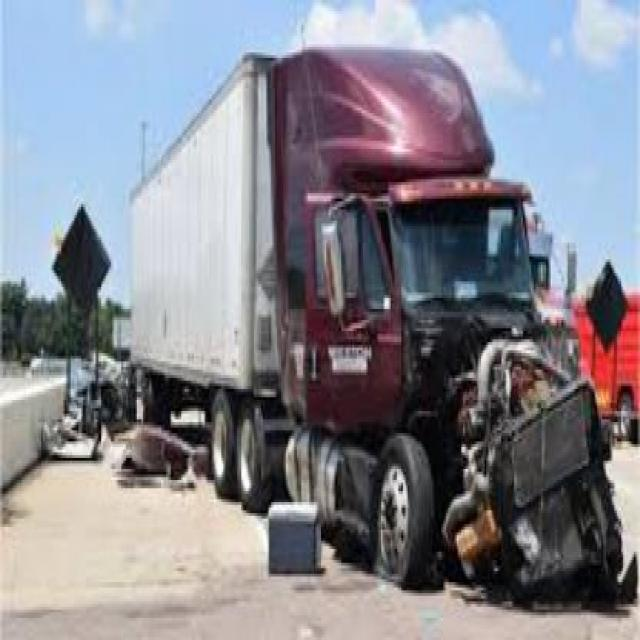accident: (117, 22, 638, 601)
